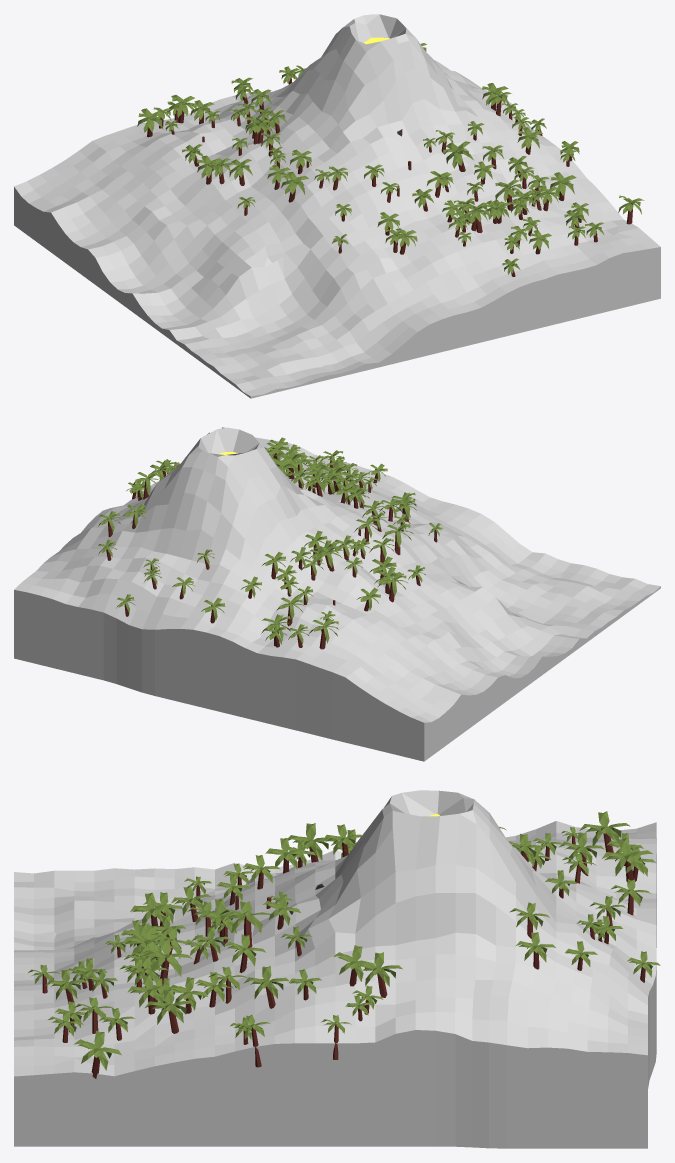
Rendered from volcano 1.fbx.
The picture shows the model from 3 angles, top to bottom: view 1: azimuth 30°, elevation 25°; view 2: azimuth 150°, elevation 25°; view 3: azimuth 270°, elevation 25°; orthographic projection. The views are drawn at different scales.
Parts seen in each view (by area): view 1: Plane; view 2: Plane; view 3: Plane, Plane|Cylinder.001|Dupli|28, Plane|Cylinder.001|Dupli|18, Plane|Cylinder.001|Dupli|14, Plane|Cylinder.001|Dupli|33, Plane|Cylinder.001|Dupli|5, Plane|Cylinder.001|Dupli|2, Plane|Cylinder.001|Dupli|22, Plane|Cylinder.001|Dupli|60, Plane|Cylinder.001|Dupli|72, Plane|Cylinder.001|Dupli|3, Plane|Cylinder.001|Dupli|42 (+6 smaller).
Boxes of the visible parts, x1=… form: Plane: x1=14, y1=14, x2=660, y2=398; Plane: x1=14, y1=427, x2=660, y2=761; Plane: x1=14, y1=790, x2=656, y2=1148; Plane|Cylinder.001|Dupli|28: x1=140, y1=938, x2=192, y2=985; Plane|Cylinder.001|Dupli|18: x1=73, y1=1030, x2=121, y2=1078; Plane|Cylinder.001|Dupli|14: x1=602, y1=838, x2=652, y2=881; Plane|Cylinder.001|Dupli|33: x1=145, y1=988, x2=194, y2=1033; Plane|Cylinder.001|Dupli|5: x1=579, y1=811, x2=630, y2=852; Plane|Cylinder.001|Dupli|2: x1=219, y1=901, x2=270, y2=948; Plane|Cylinder.001|Dupli|22: x1=358, y1=952, x2=402, y2=997; Plane|Cylinder.001|Dupli|60: x1=243, y1=966, x2=289, y2=1008; Plane|Cylinder.001|Dupli|72: x1=333, y1=945, x2=376, y2=986; Plane|Cylinder.001|Dupli|3: x1=287, y1=823, x2=335, y2=862; Plane|Cylinder.001|Dupli|42: x1=127, y1=974, x2=169, y2=1014.
Size of the model in its own units: 17.27 by 7.47 by 16.81.
